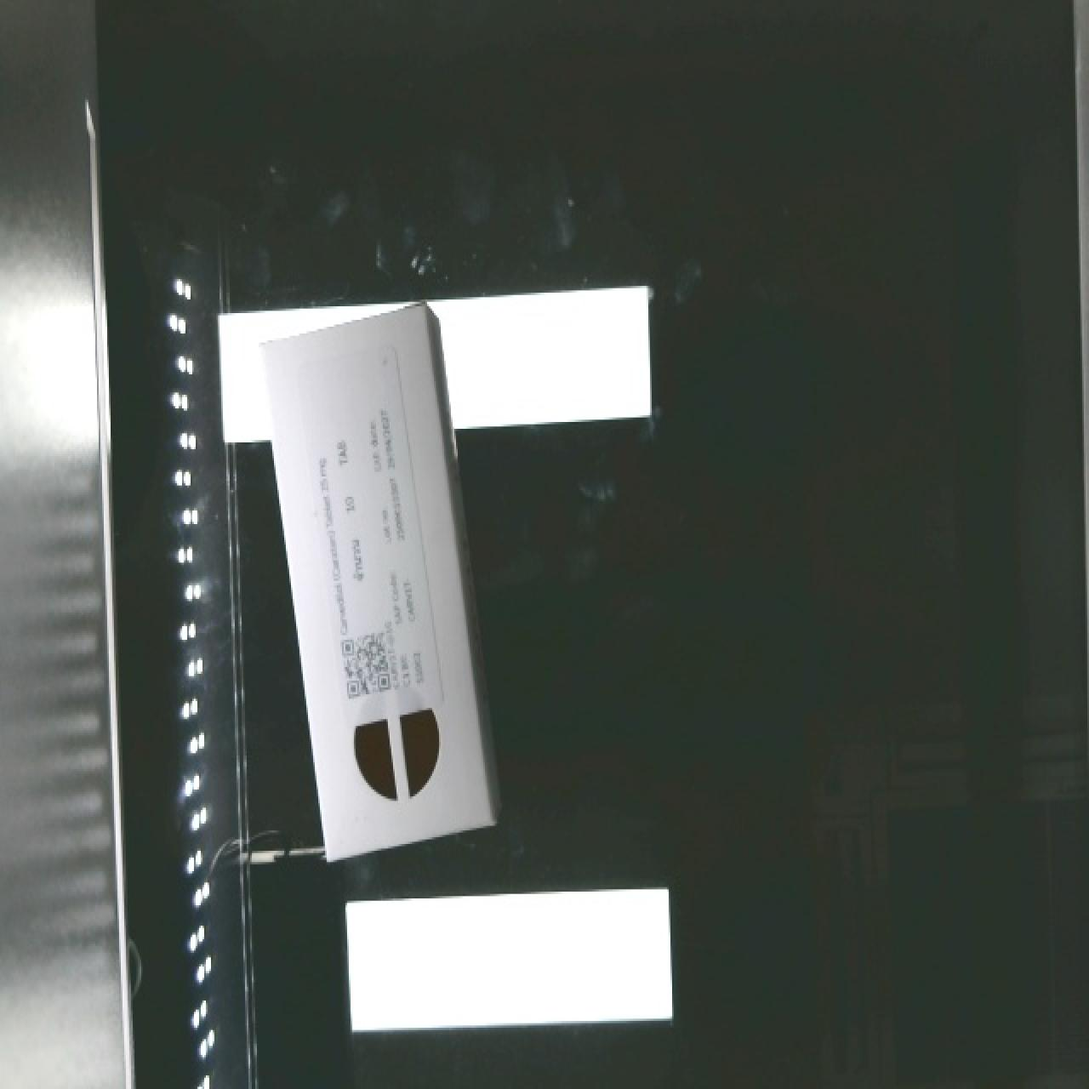qr_code: (328, 620, 402, 707)
